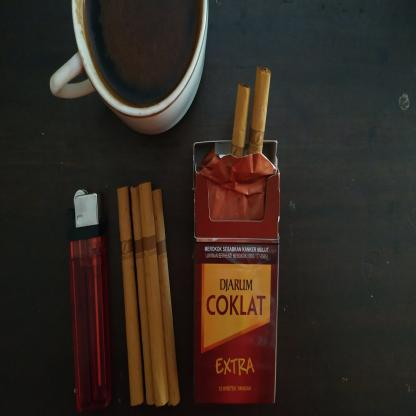bungkus rokok: (192, 56, 281, 416)
